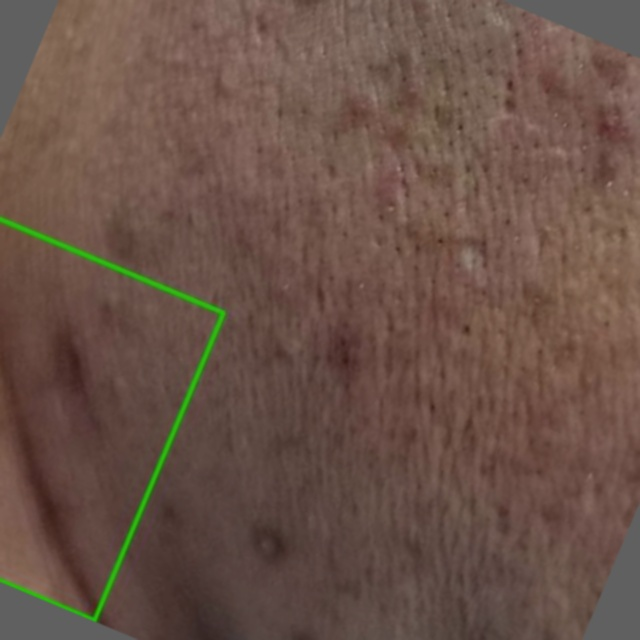Eczema: (0, 219, 223, 620)
